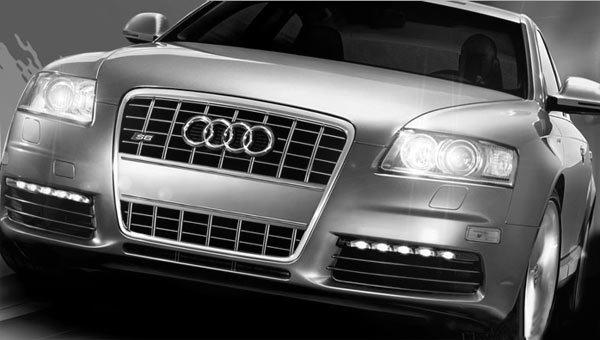car: (2, 1, 600, 340)
